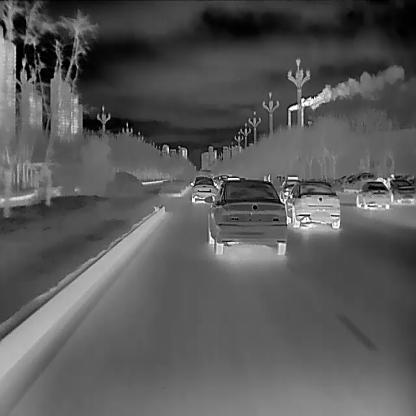car: (204, 179, 286, 255), (283, 182, 340, 228), (352, 180, 392, 209), (190, 176, 217, 205), (387, 177, 413, 203)
